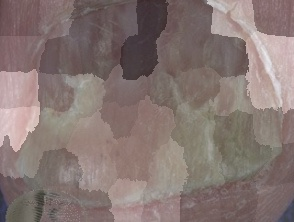Nail_psoriasis: (0, 1, 294, 222)
